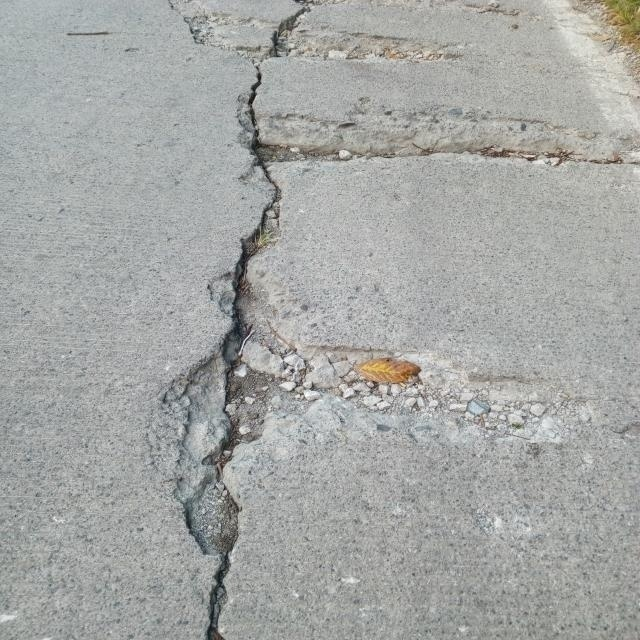pothole: (107, 0, 640, 612)
